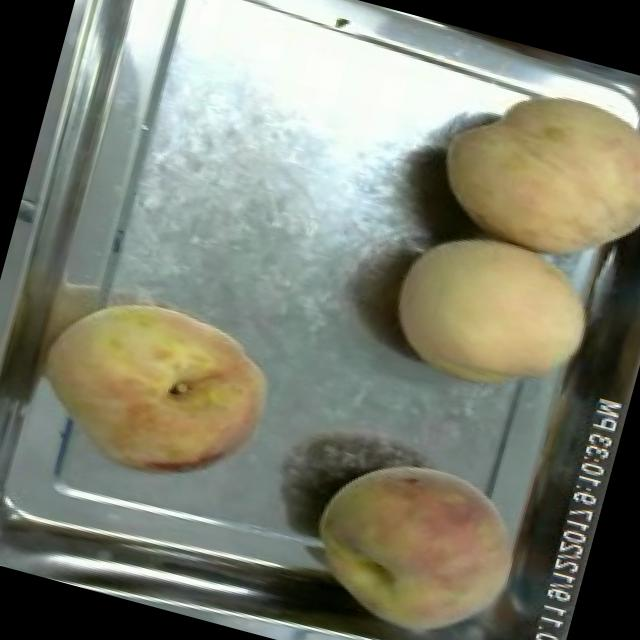Fruit: (16, 268, 299, 511), (282, 426, 545, 640), (413, 49, 640, 292), (372, 208, 610, 420)
